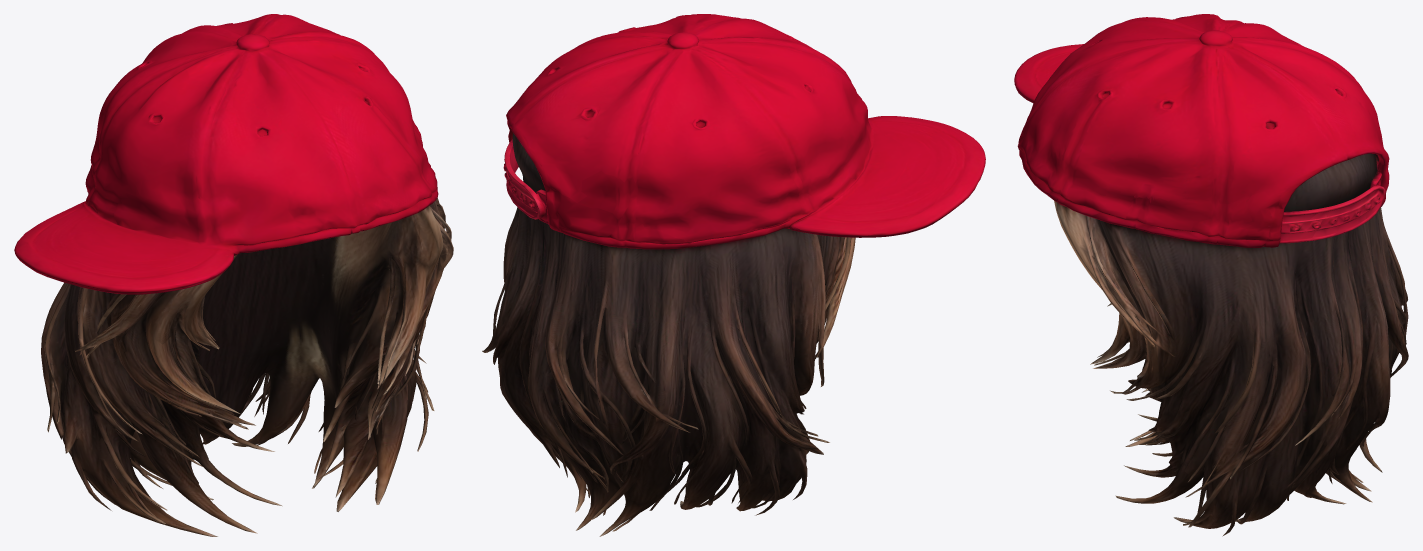
Rendered from kpop-snapback.glb.
3 renders of one model, left to right at view 1: azimuth 30°, elevation 25°; view 2: azimuth 150°, elevation 25°; view 3: azimuth 270°, elevation 25°, orthographic. The views are drawn at different scales.
Visible parts, largest first — view 1: tripo_node_502ce9ff-84ec-4975-add9-ce1904d33c6c; view 2: tripo_node_502ce9ff-84ec-4975-add9-ce1904d33c6c; view 3: tripo_node_502ce9ff-84ec-4975-add9-ce1904d33c6c.
Part boxes in pixels (x1,y1,x2,y2): tripo_node_502ce9ff-84ec-4975-add9-ce1904d33c6c: (14, 14, 453, 536); tripo_node_502ce9ff-84ec-4975-add9-ce1904d33c6c: (482, 14, 985, 536); tripo_node_502ce9ff-84ec-4975-add9-ce1904d33c6c: (1014, 14, 1408, 536).
Bounding box in the file's own units: 1.56 × 1.6 × 1.25.
Materials: 1 (1 with a texture image).
